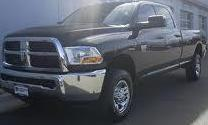front_view: (5, 27, 116, 103)
headlight: (56, 41, 113, 77)
side_glass: (123, 5, 182, 30)
